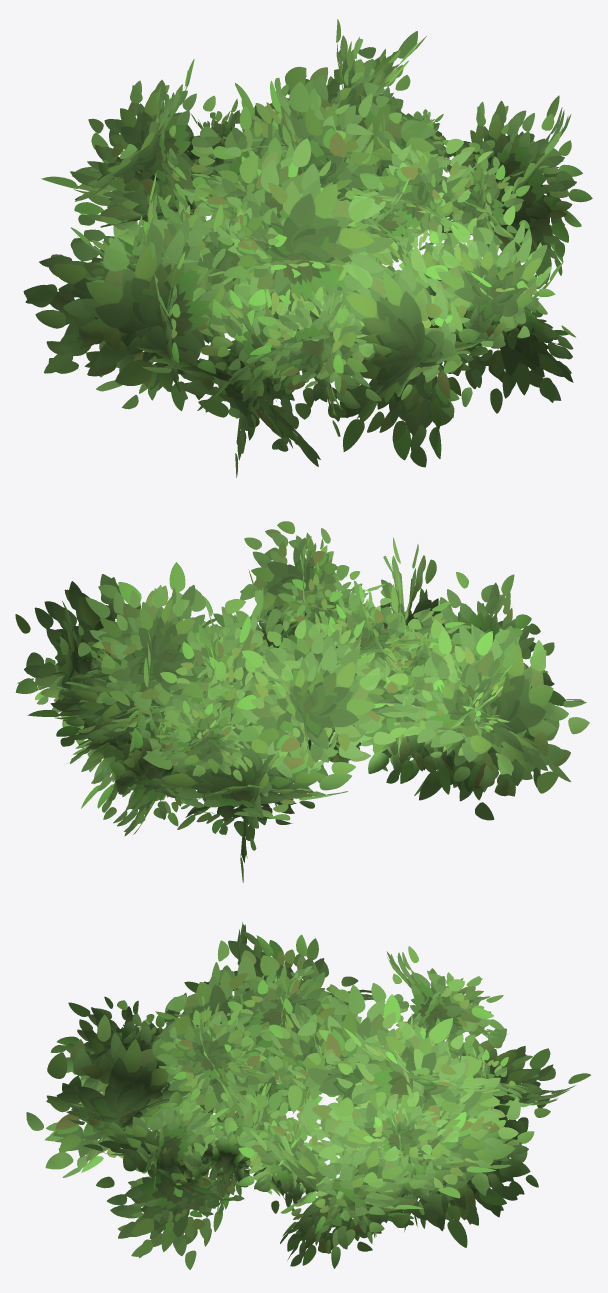
File: SM_Bush02.fbx
3 views of the same model, one above another, from view 1: azimuth 30°, elevation 25°; view 2: azimuth 150°, elevation 25°; view 3: azimuth 270°, elevation 25° (orthographic). The views are drawn at different scales.
Visible parts, largest first — view 1: Bush.002; view 2: Bush.002; view 3: Bush.002.
Part boxes in pixels (x1,y1,x2,y2): Bush.002: [23, 19, 592, 477]; Bush.002: [15, 521, 589, 882]; Bush.002: [26, 922, 590, 1269].
Bounding box in the file's own units: 13.14 × 13.04 × 6.62.
